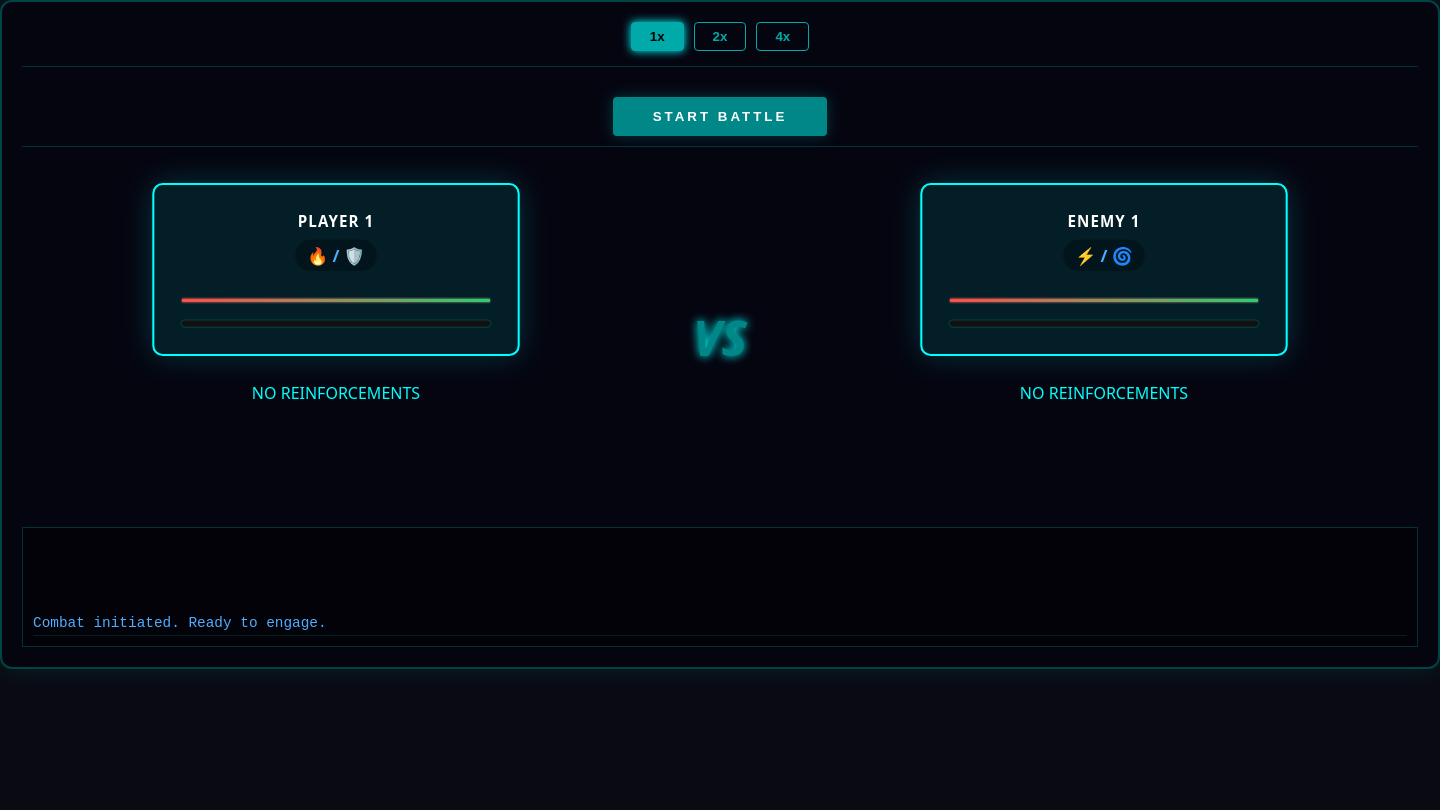
BattleArena › starts combat and progresses ATB
Click the button "START BATTLE" at point(720, 116), box [613,97,827,136]
Wait 1000 ms
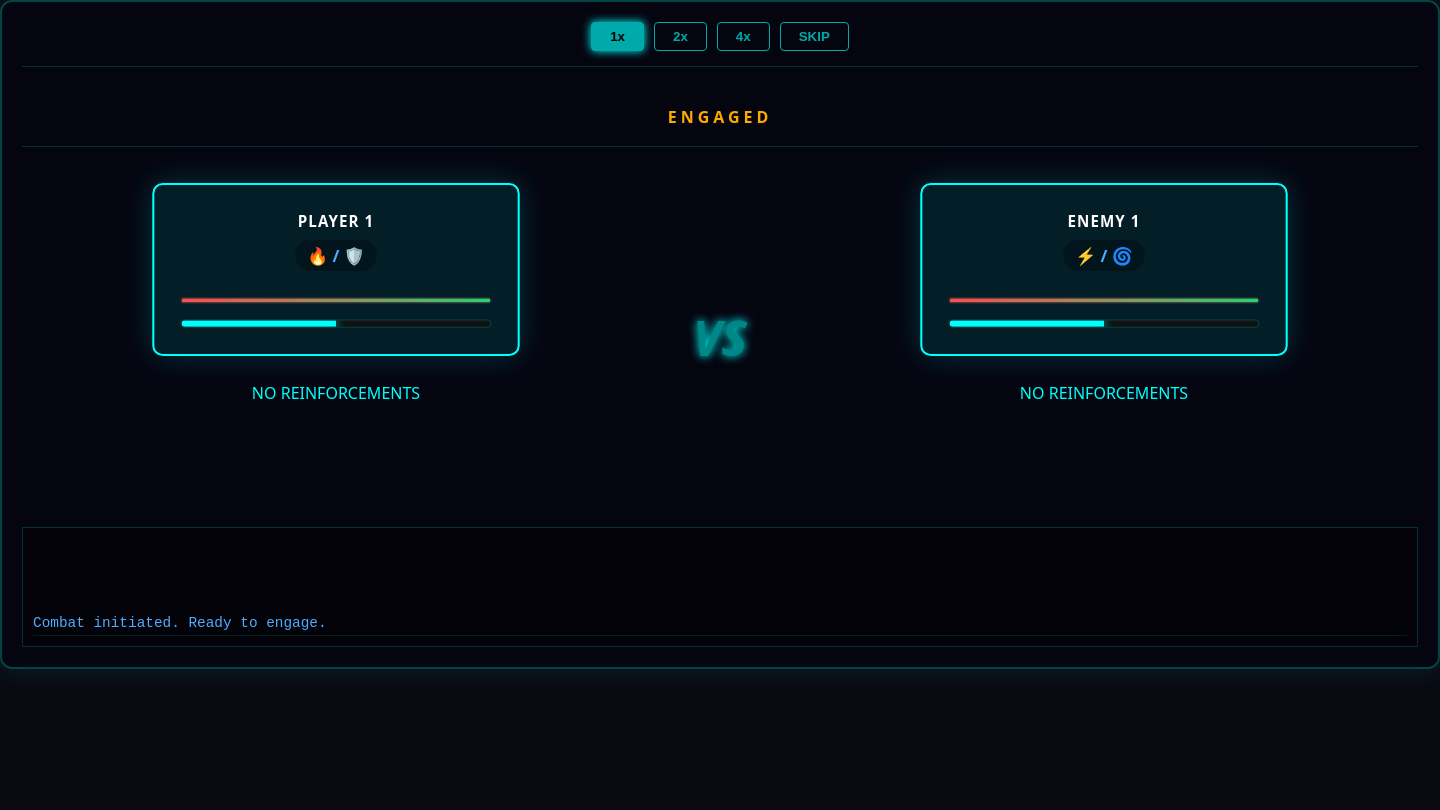
expect the text "Combat initiated. Ready to engage." is shown: met, box [33,611,1407,636]
expect the text "ENGAGED" is shown: met, box [668,106,772,128]
